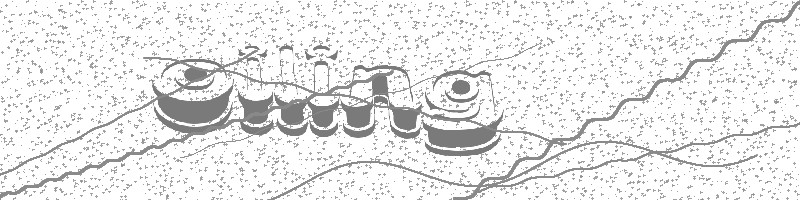g: (420, 67, 503, 157)
i: (235, 44, 276, 136), (304, 43, 341, 137), (274, 44, 309, 137)
n: (342, 63, 419, 138)
o: (149, 56, 234, 134)
